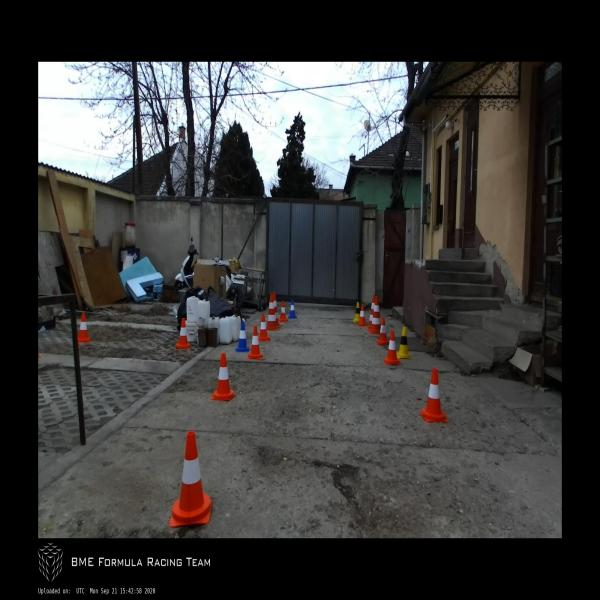blue_cone: (234, 320, 250, 353), (288, 298, 296, 318)
large_orange_cone: (266, 293, 280, 331), (369, 298, 381, 334), (272, 293, 283, 327), (367, 294, 376, 329)
orange_cone: (169, 430, 212, 526), (420, 368, 449, 424), (210, 352, 236, 402), (247, 325, 263, 361), (384, 330, 400, 364), (174, 318, 190, 350), (77, 312, 91, 343), (376, 317, 390, 346), (258, 313, 270, 341), (278, 301, 288, 322), (358, 304, 367, 327)
yellow_cone: (396, 325, 412, 360), (353, 302, 360, 323)
